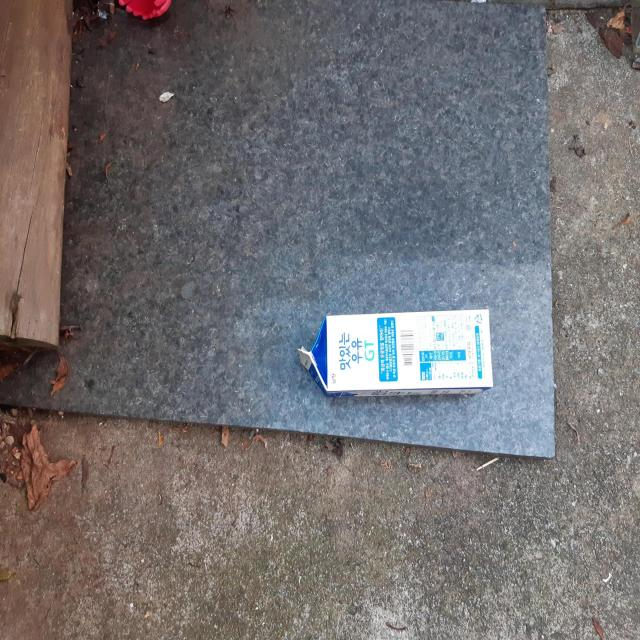paperpack: (298, 309, 494, 397)
